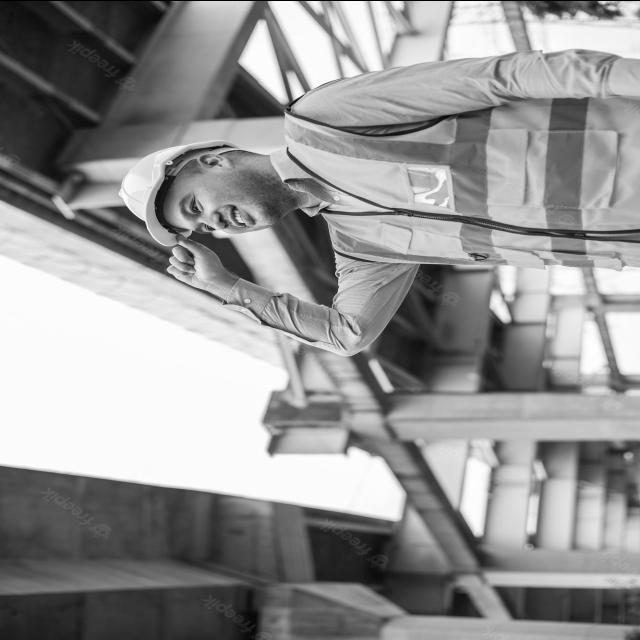safety_helmet: (122, 142, 227, 247)
